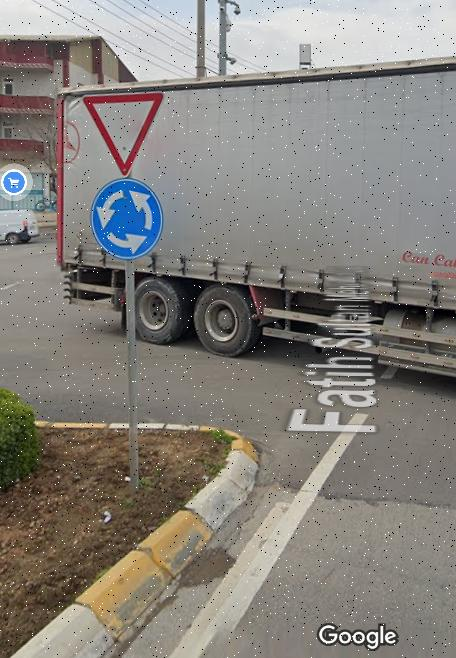crossroads: (92, 179, 161, 257)
